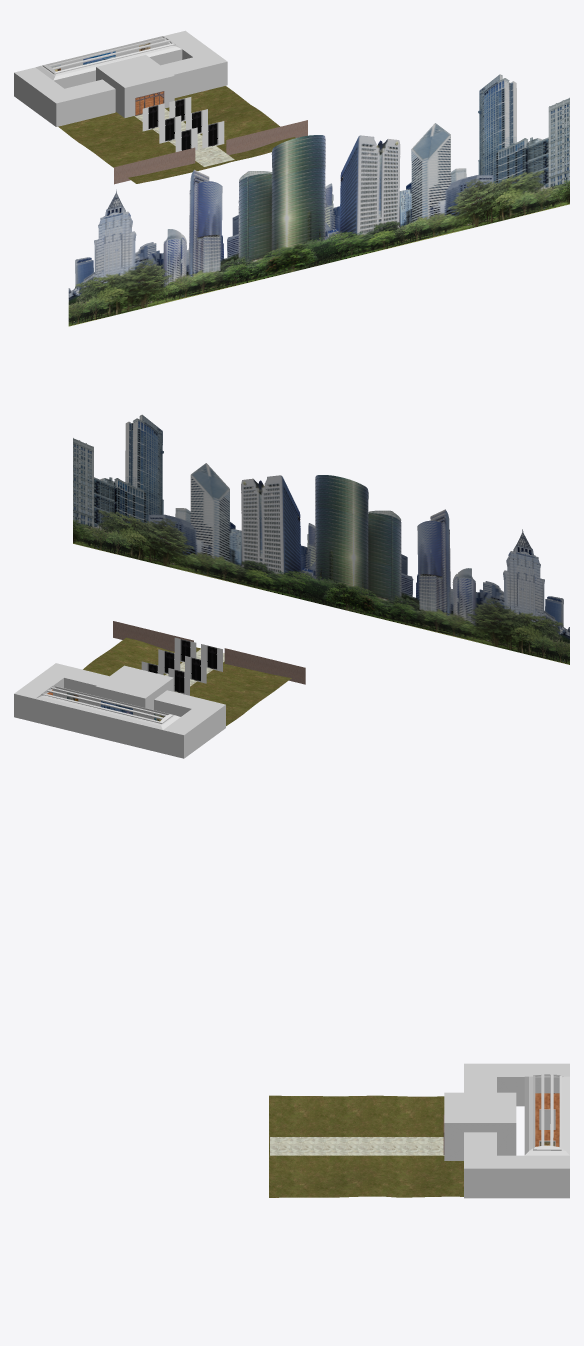
Rendered from main.fbx.
3 renders of one model, top to bottom at view 1: azimuth 30°, elevation 25°; view 2: azimuth 150°, elevation 25°; view 3: azimuth 270°, elevation 25°, orthographic. The views are drawn at different scales.
Visible parts, largest first — view 1: Plane.025, Plane.004, Cube.006, Cube.012, Cube, Cube.009, Plane.013, Plane.003, Plane.012, Plane.005, Plane.010, Plane.007 (+4 smaller); view 2: Plane.025, Cube.006, Plane.004, Cube.012, Cube.009, Plane.013, Plane.003, Plane.012, Cube; view 3: Plane.004, Cube.012, Cube.006, Plane.005, Cube.009, Cube, Plane.003, Cube.011.
Boxes of the visible parts, bbox=[...] form: Plane.025: bbox=[68, 74, 569, 326]; Plane.004: bbox=[58, 86, 295, 183]; Cube.006: bbox=[14, 38, 227, 126]; Cube.012: bbox=[14, 30, 226, 103]; Cube: bbox=[96, 67, 174, 117]; Cube.009: bbox=[96, 55, 174, 87]; Plane.013: bbox=[114, 147, 195, 184]; Plane.003: bbox=[42, 36, 175, 74]; Plane.012: bbox=[226, 120, 307, 154]; Plane.005: bbox=[134, 109, 234, 166]; Plane.010: bbox=[202, 121, 224, 148]; Plane.007: bbox=[142, 103, 164, 131]; Plane.025: bbox=[73, 414, 569, 664]; Cube.006: bbox=[14, 678, 225, 758]; Plane.004: bbox=[83, 637, 291, 725]; Cube.012: bbox=[14, 663, 225, 734]; Cube.009: bbox=[96, 665, 173, 698]; Plane.013: bbox=[224, 648, 305, 684]; Plane.003: bbox=[41, 685, 173, 723]; Plane.012: bbox=[113, 621, 193, 651]; Cube: bbox=[95, 678, 173, 709]; Plane.004: bbox=[269, 1095, 463, 1197]; Cube.012: bbox=[464, 1063, 569, 1168]; Cube.006: bbox=[464, 1077, 569, 1198]; Plane.005: bbox=[270, 1137, 444, 1155]; Cube.009: bbox=[444, 1092, 516, 1122]; Cube: bbox=[444, 1123, 516, 1160]; Plane.003: bbox=[533, 1074, 561, 1150]; Cube.011: bbox=[535, 1093, 559, 1146].
Size of the model in its own units: 20.1 by 7.28 by 15.41.
Materials: 21 (18 with a texture image).
